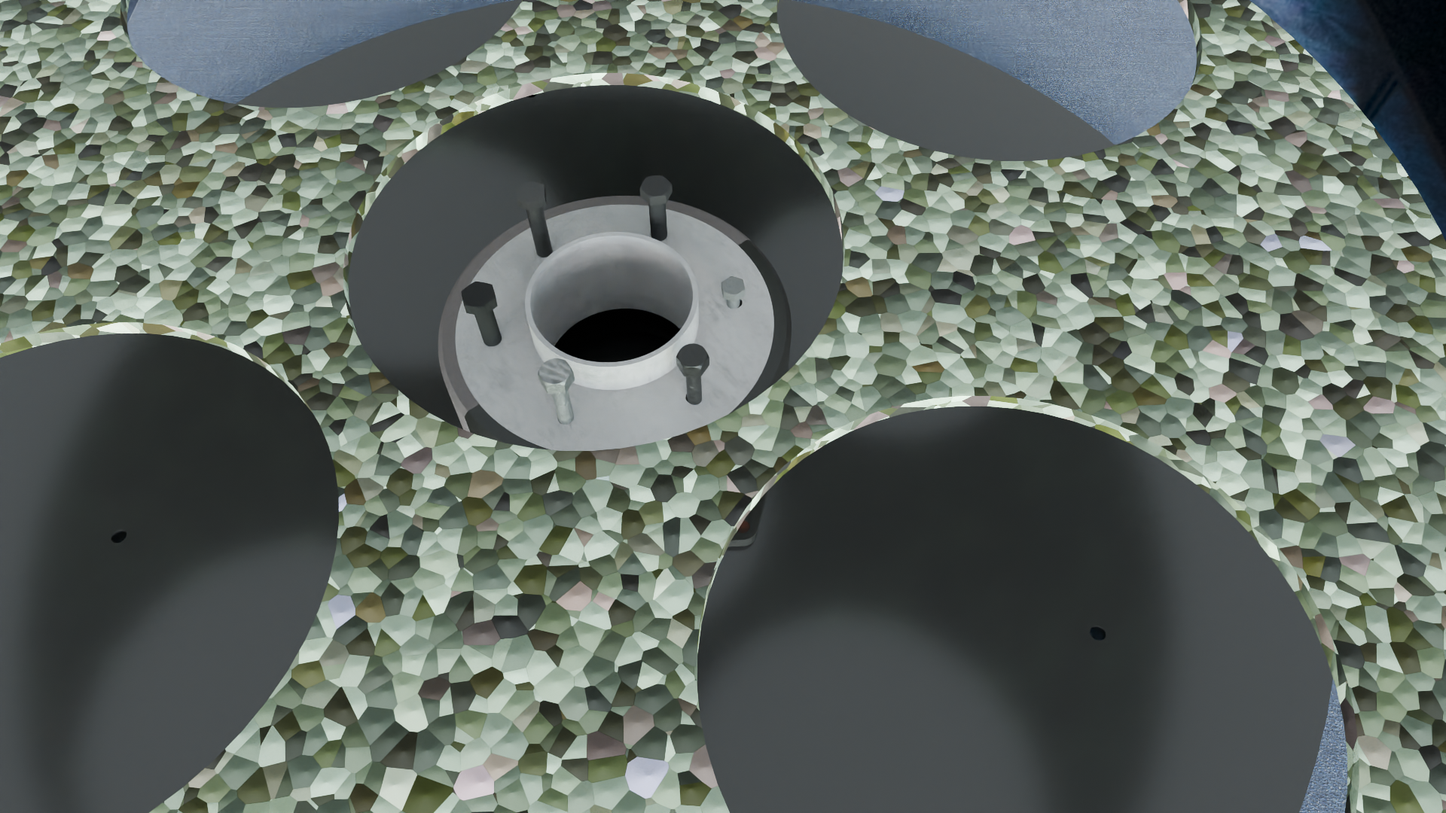bolt: (538, 358, 573, 386), (461, 282, 495, 309), (676, 343, 709, 369), (640, 175, 672, 197), (517, 181, 545, 204), (721, 276, 745, 297)
